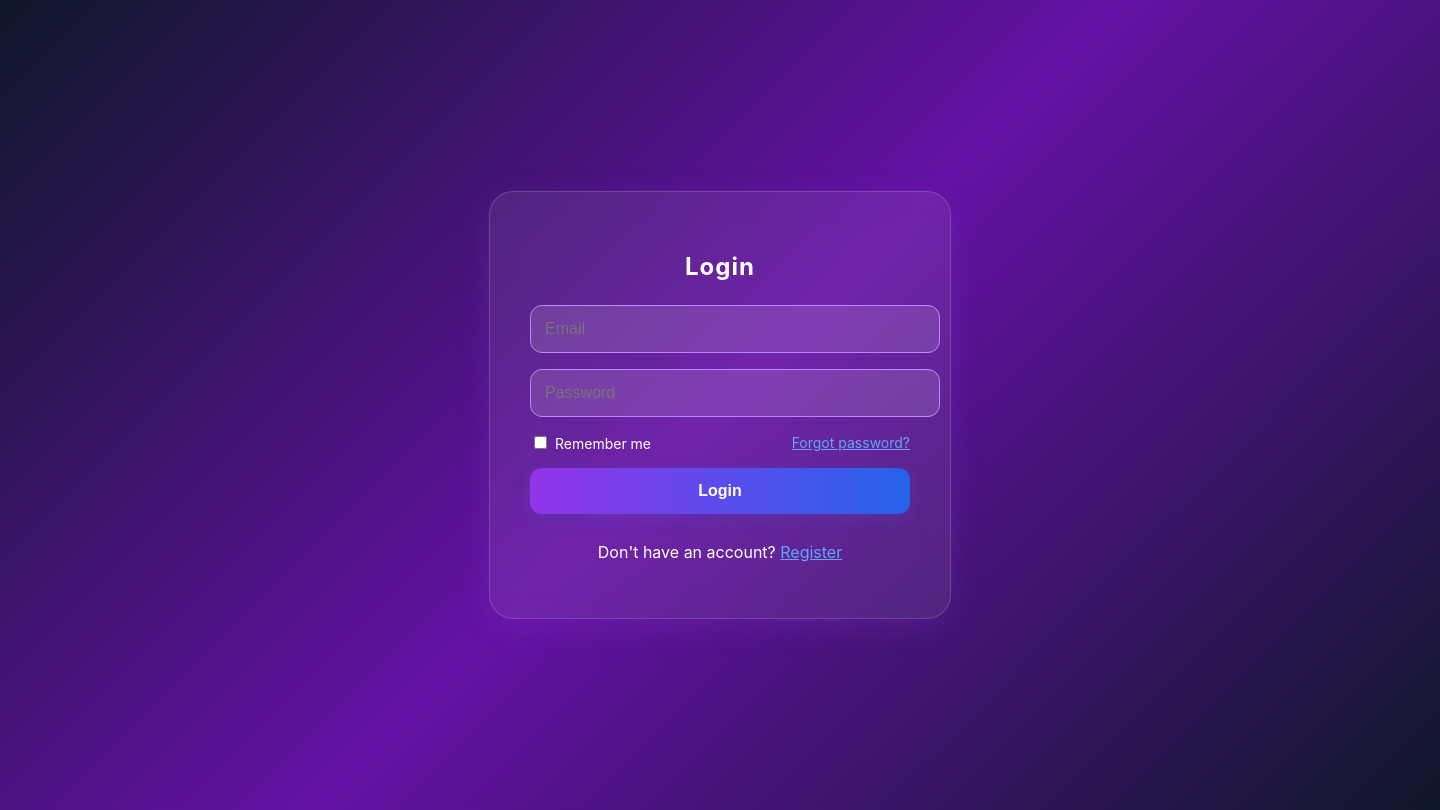
Test: Login Component › shows error message on failed login
The width and height of the screenshot is (1440, 810).
Type "test@example.com" into the field with placeholder "Email" at (735, 329), box [530,305,940,353]
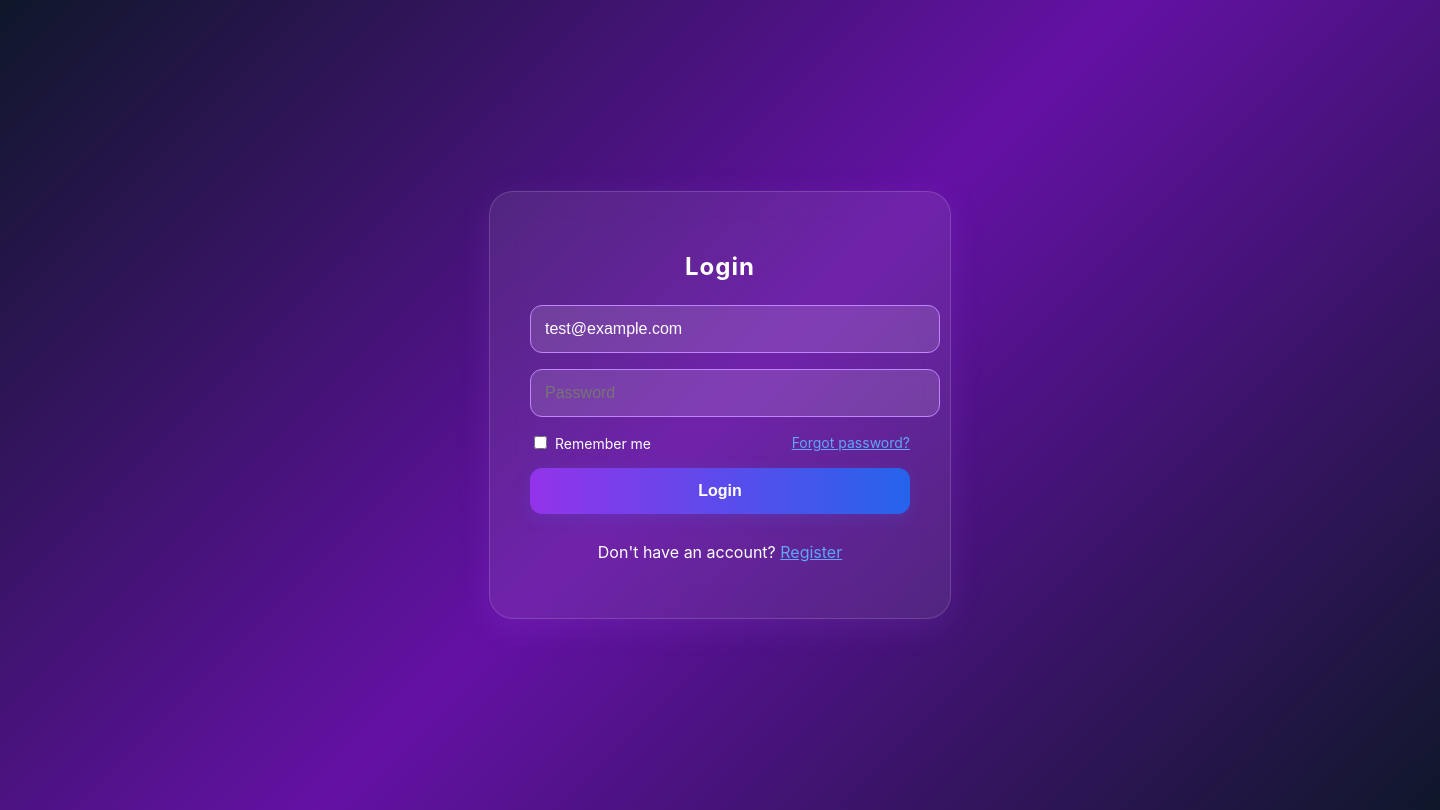
Type "wrongpassword" into the password field with placeholder "Password" at (735, 393), box [530,369,940,417]
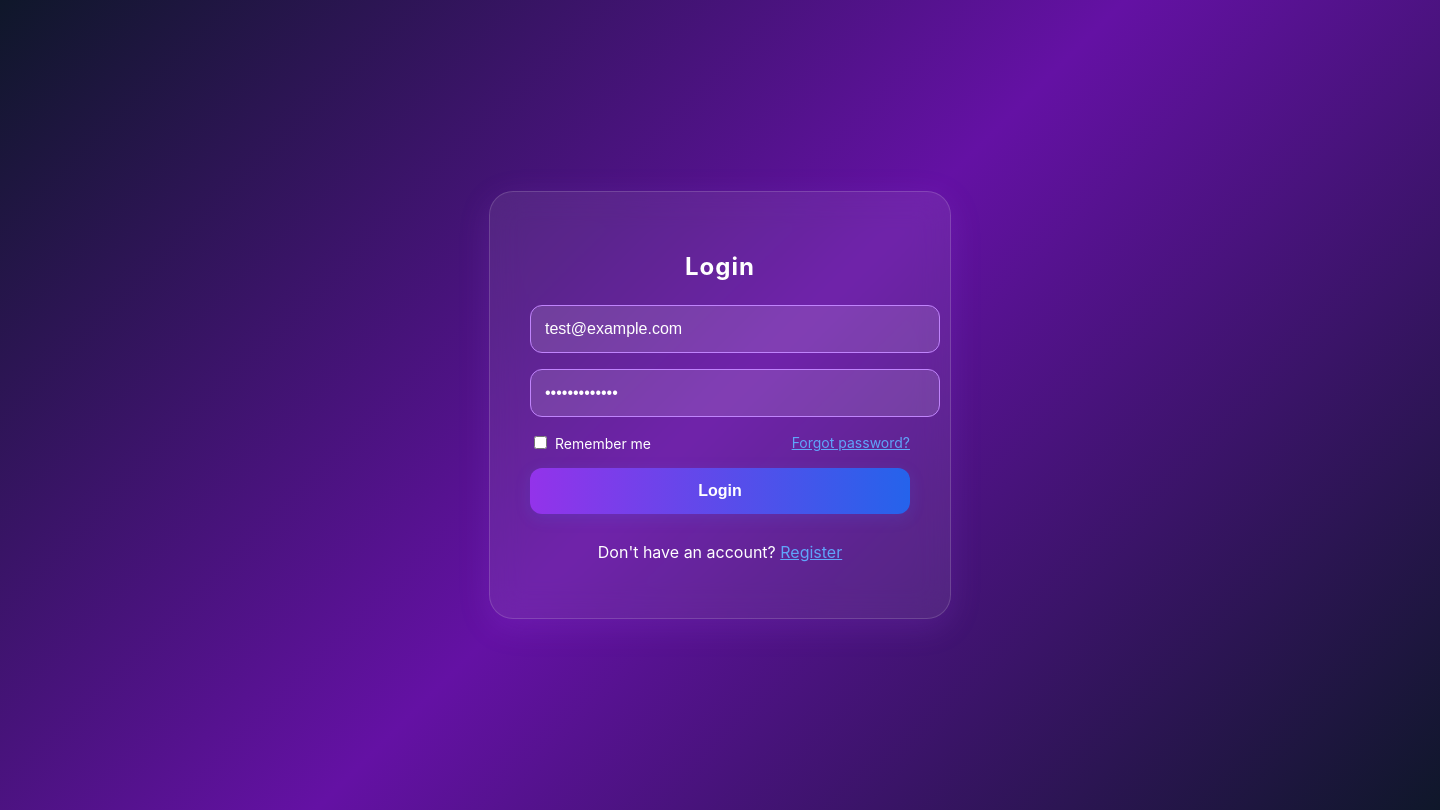
Click the button "Login" at (720, 491), box [530,468,910,514]
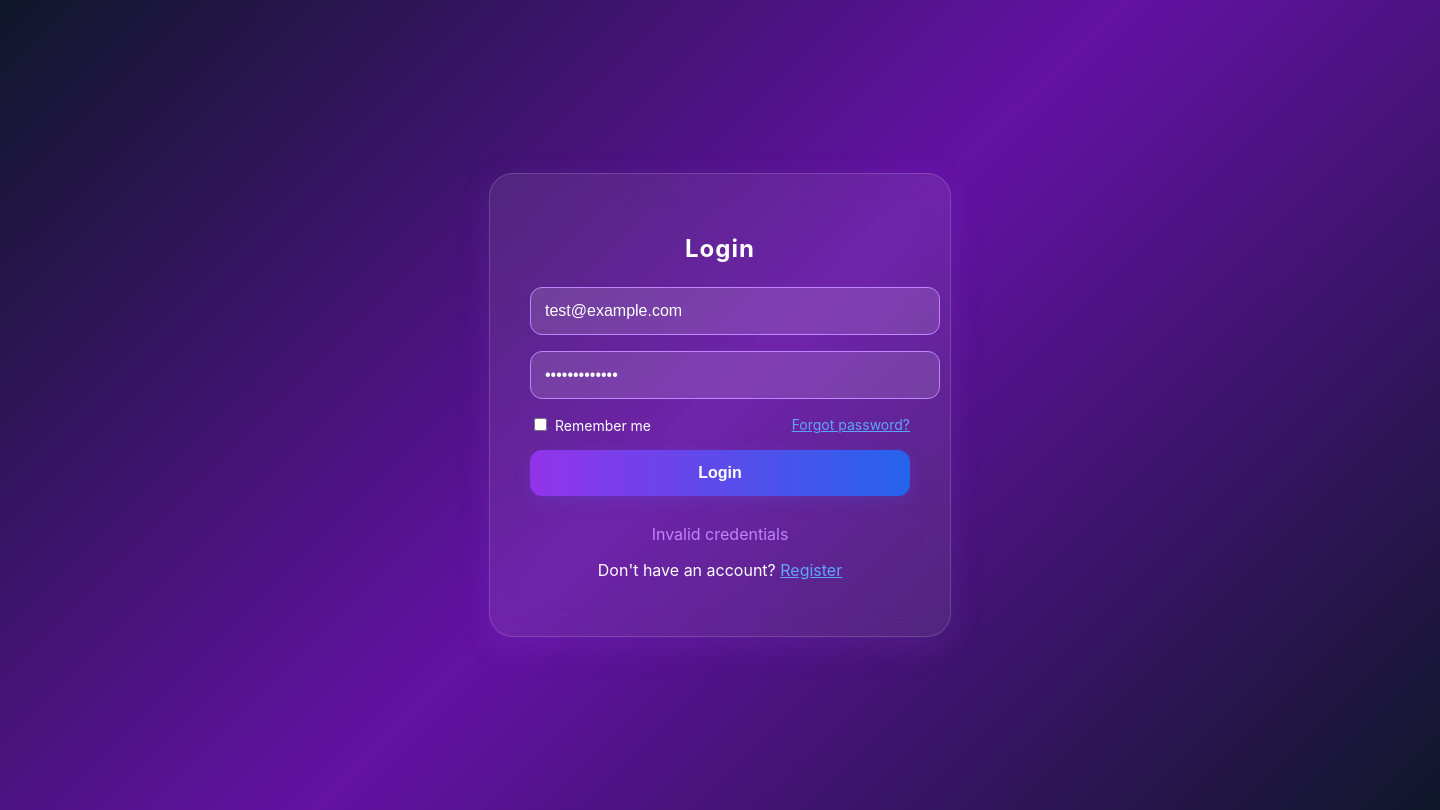
Expected: the text "Invalid credentials" is shown, [652,524,788,544]
